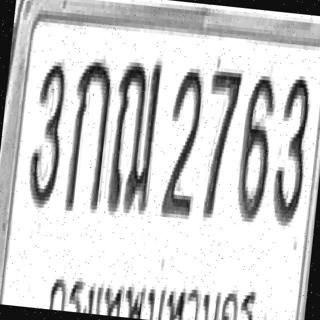A01: (62, 54, 114, 216)
A12: (104, 51, 164, 216)
N02: (159, 63, 206, 219)
N03: (24, 56, 70, 209), (269, 70, 313, 227)
N06: (233, 70, 278, 223)
N07: (196, 64, 242, 221)
